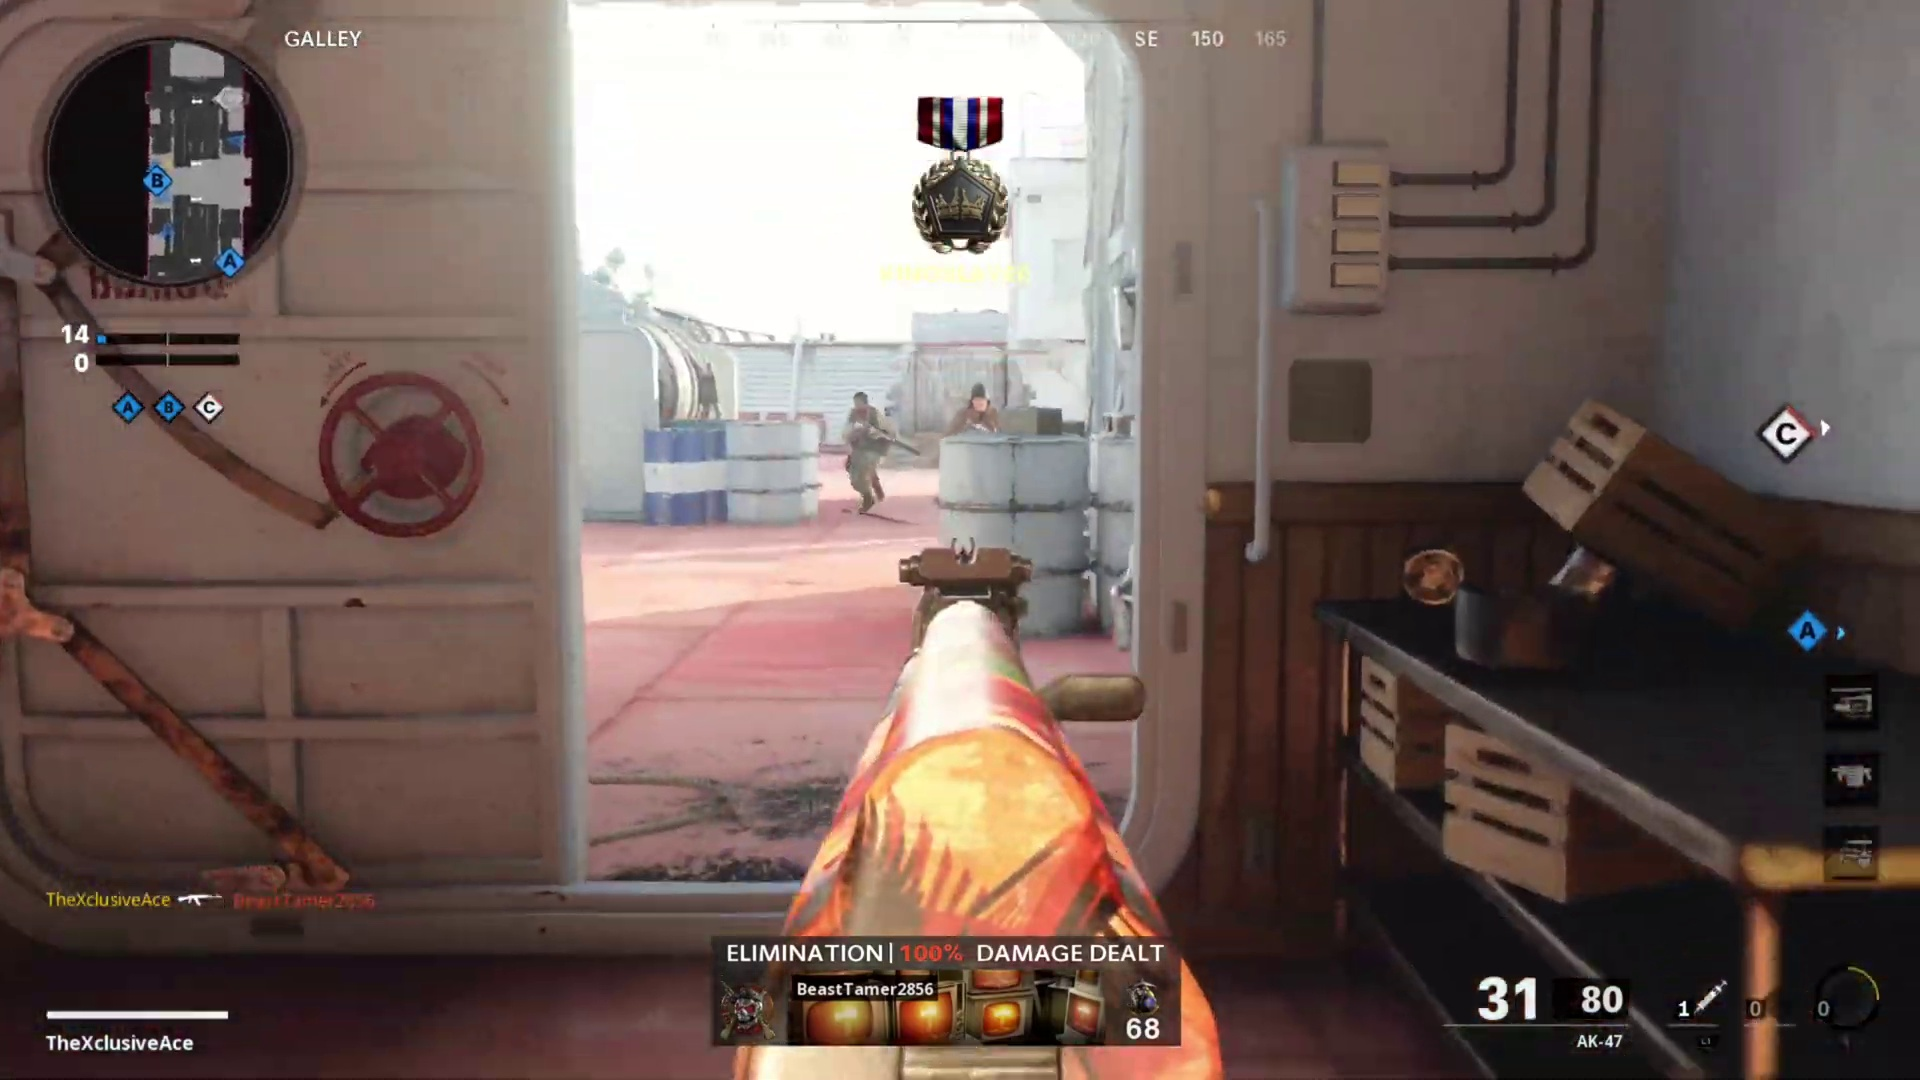head: (963, 381, 995, 418), (850, 390, 872, 422)
person: (840, 389, 900, 513), (944, 381, 997, 432)
